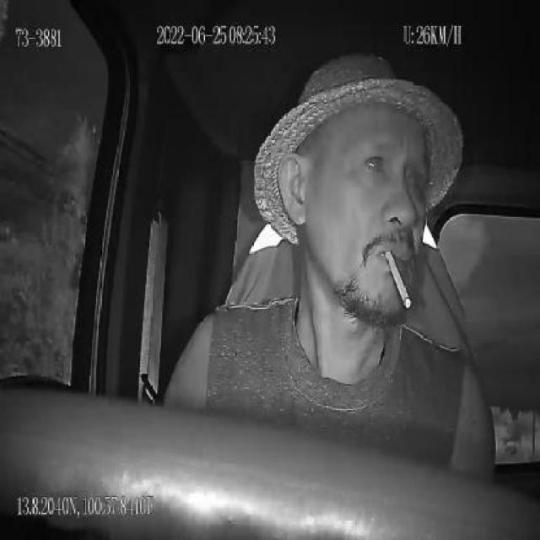smoking: (382, 245, 411, 310)
